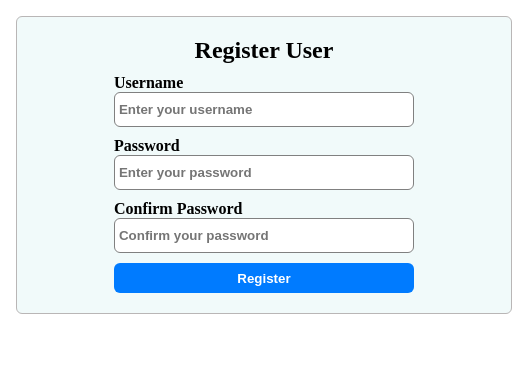
Test case: RegisterPage › shows validation errors for empty fields when submitted
Click the button with aria-label "Submit Registration" at (264, 278), box [114,263,414,293]
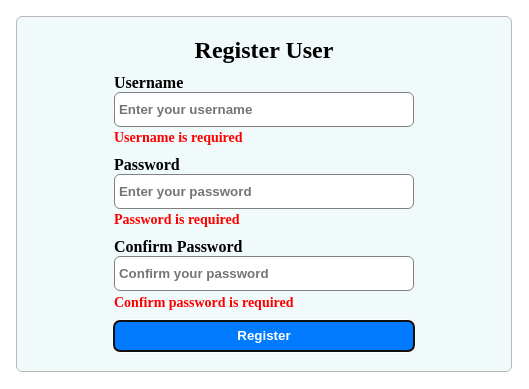
Expected: the text "Username is required" is shown, [114,130,243,145]
Expected: the text "Password is required" is shown, [114,212,240,227]
Expected: the text "Confirm password is required" is shown, [114,295,294,310]
